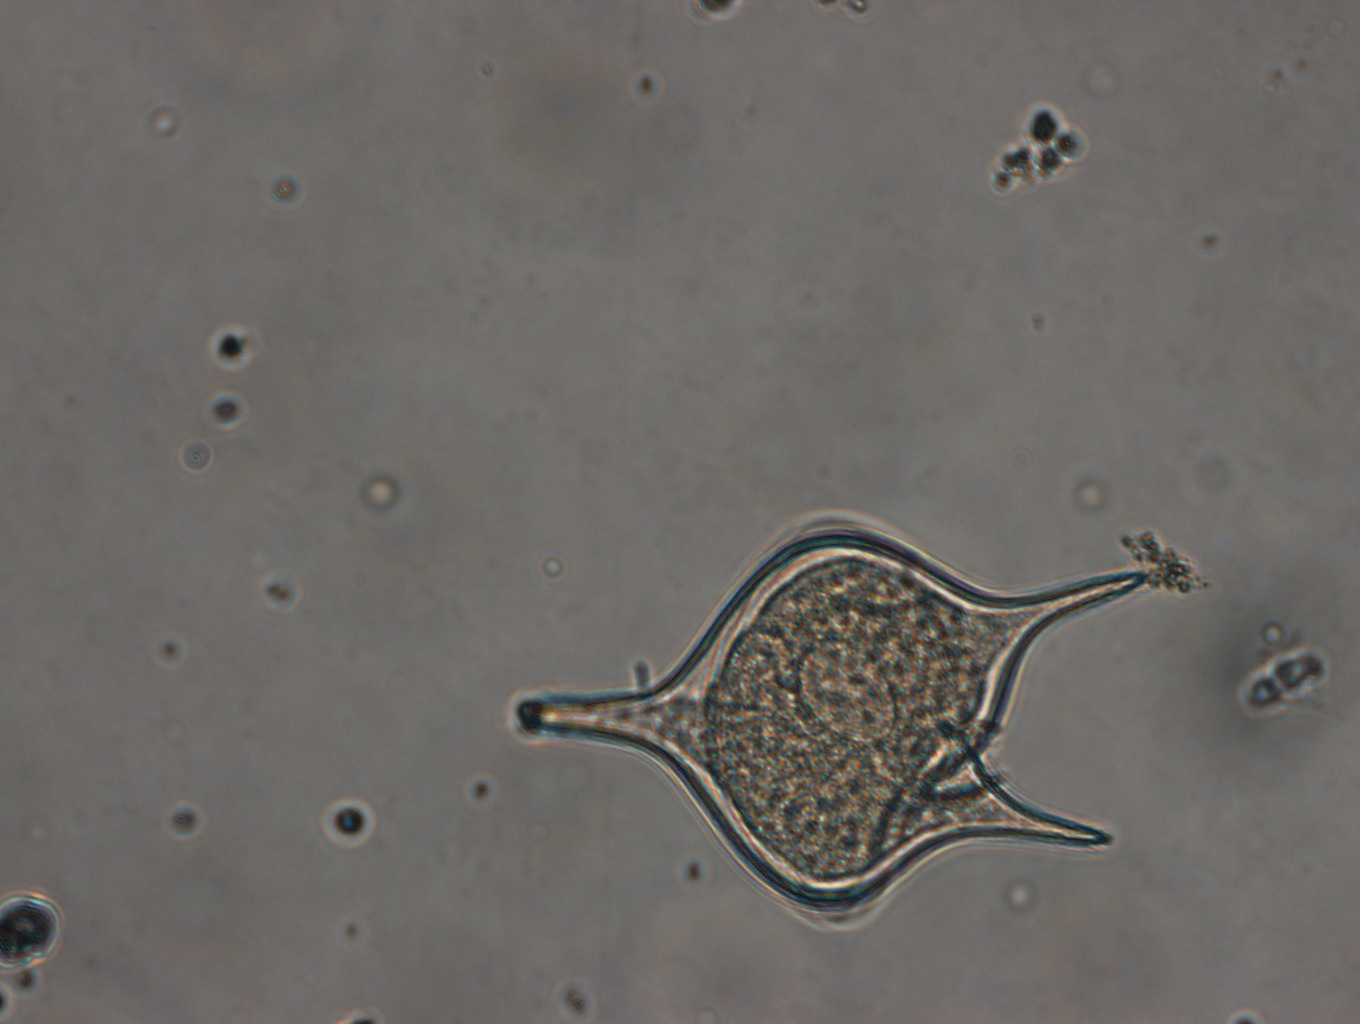protoperidinium: (512, 520, 1153, 918)
